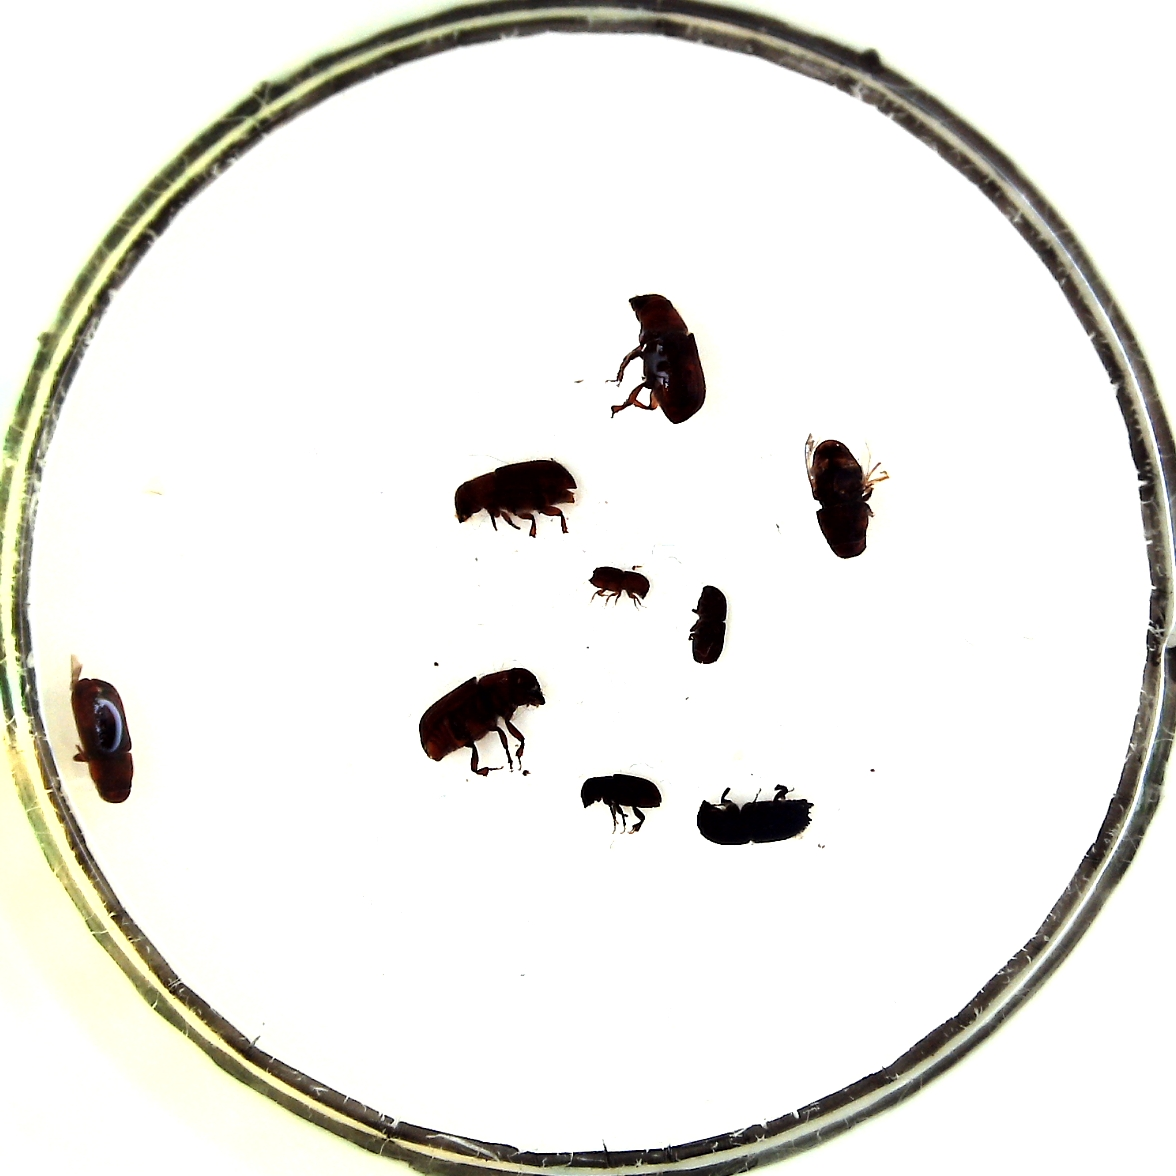Boerner: (694, 786, 816, 846)
Leconte: (419, 666, 547, 776), (620, 291, 706, 425), (448, 457, 575, 540), (804, 435, 876, 560), (70, 673, 135, 807)
Linnaeus: (689, 584, 729, 666)
acuminatus: (586, 561, 652, 606)
armandi: (576, 771, 663, 830)
